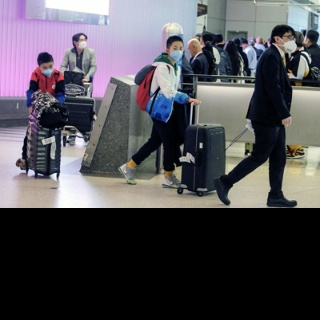with_mask: (283, 33, 297, 53), (169, 44, 184, 61), (40, 64, 54, 79), (76, 37, 87, 50)
